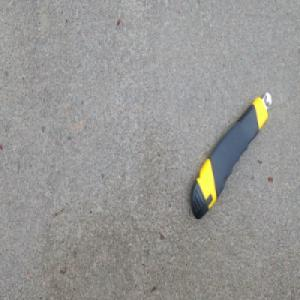Cutter: (190, 91, 273, 222)
